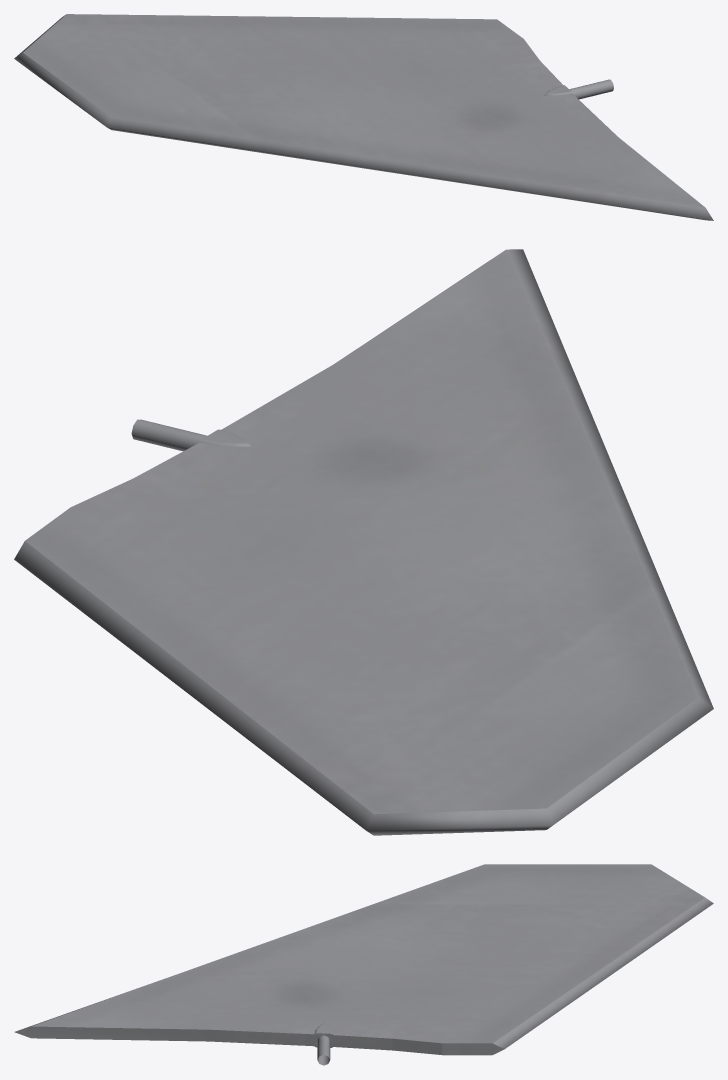
File: hornet_elevator_right.fbx
3 renders of one model, top to bottom at view 1: azimuth 30°, elevation 25°; view 2: azimuth 150°, elevation 25°; view 3: azimuth 270°, elevation 25°, orthographic. The views are drawn at different scales.
Parts seen in each view (by area): view 1: R_tail; view 2: R_tail; view 3: R_tail.
Boxes of the visible parts, x1,y1,x2,y2 form: R_tail: [14, 14, 713, 220]; R_tail: [14, 249, 713, 835]; R_tail: [14, 864, 713, 1065].
Size of the model in its own units: 280 by 9.58 by 428.
